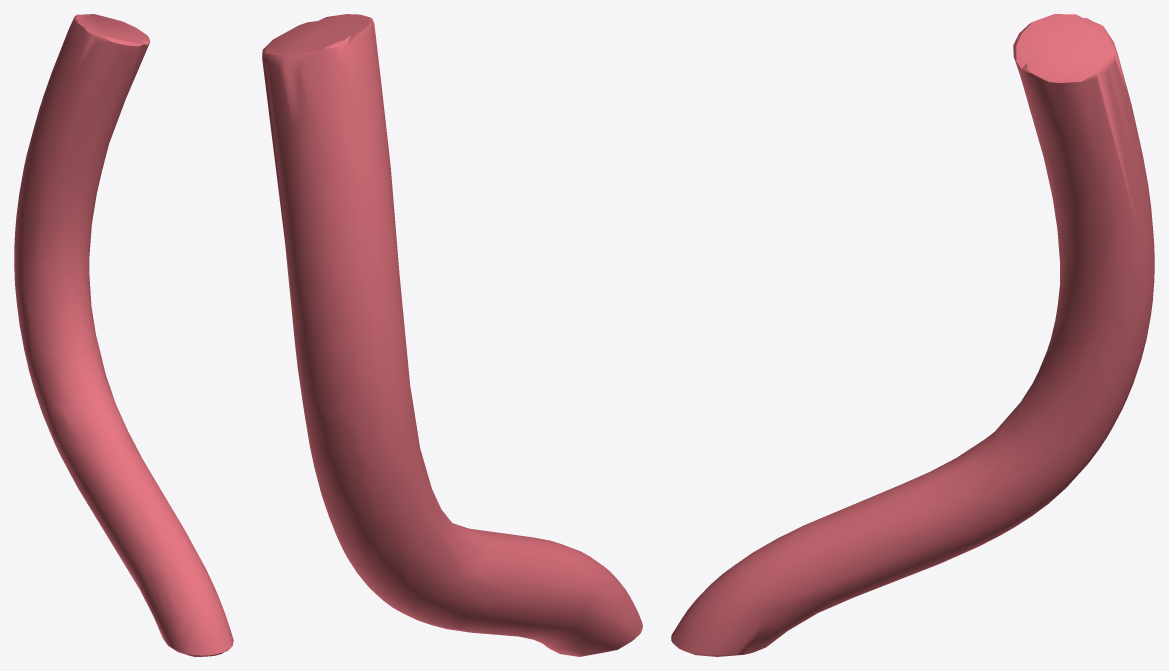
File: fma18885.glb
3 renders of one model, left to right at view 1: azimuth 30°, elevation 25°; view 2: azimuth 150°, elevation 25°; view 3: azimuth 270°, elevation 25°, orthographic. The views are drawn at different scales.
Parts seen in each view (by area): view 1: FMA18885; view 2: FMA18885; view 3: FMA18885.
Part boxes in pixels (box(x1,y1,x2,y2)): FMA18885: box(14, 14, 233, 656); FMA18885: box(262, 14, 642, 656); FMA18885: box(671, 14, 1154, 656).
Bounding box in the file's own units: 0.0212 × 0.0909 × 0.0623.
